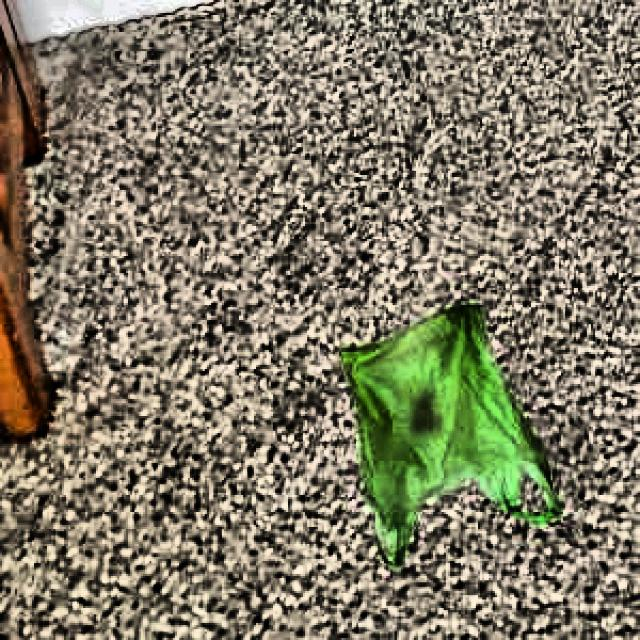Plastic: (333, 298, 574, 579)
